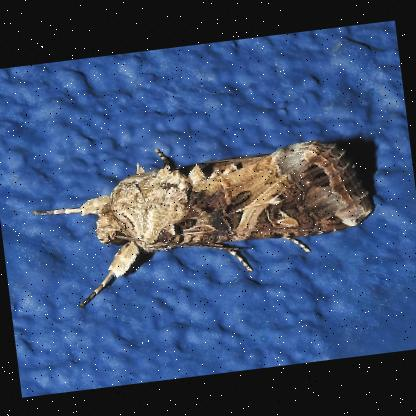Fall Armyworm Moth: (23, 118, 385, 315)
